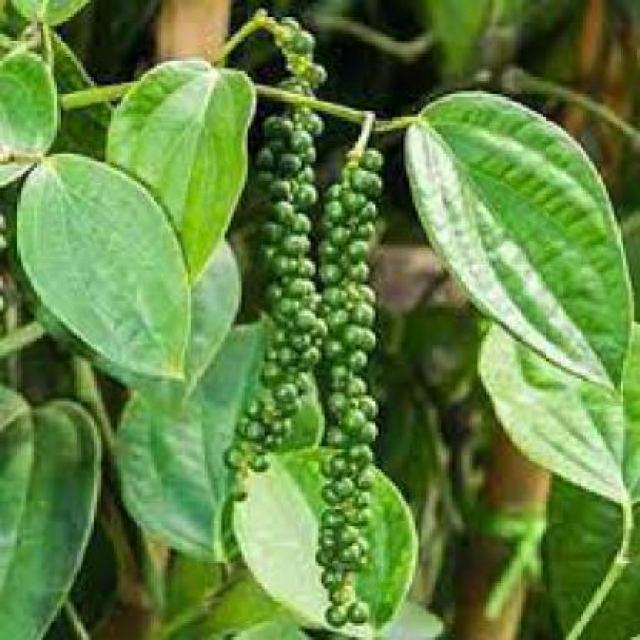UNRIPE: (305, 137, 385, 612), (254, 6, 318, 449)
